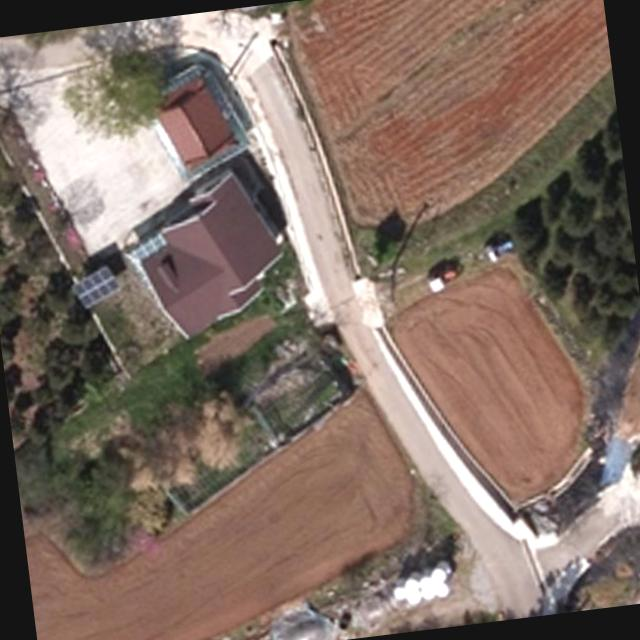solar: (69, 262, 123, 311)
